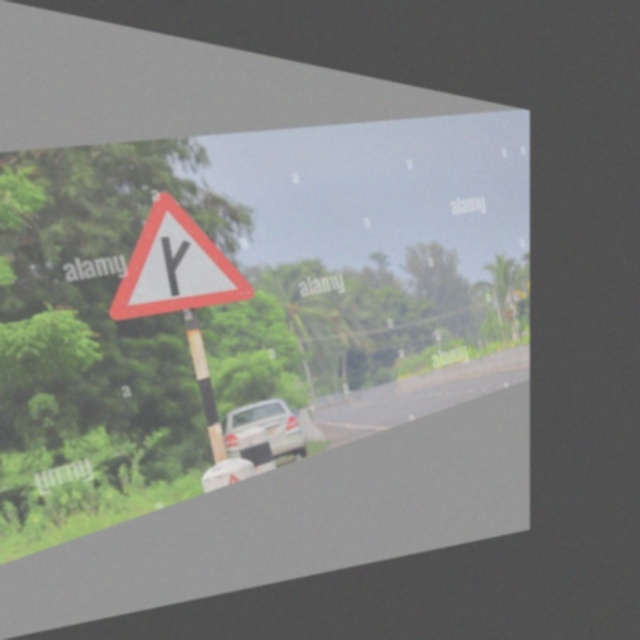Y_Intersection: (79, 164, 252, 329)
